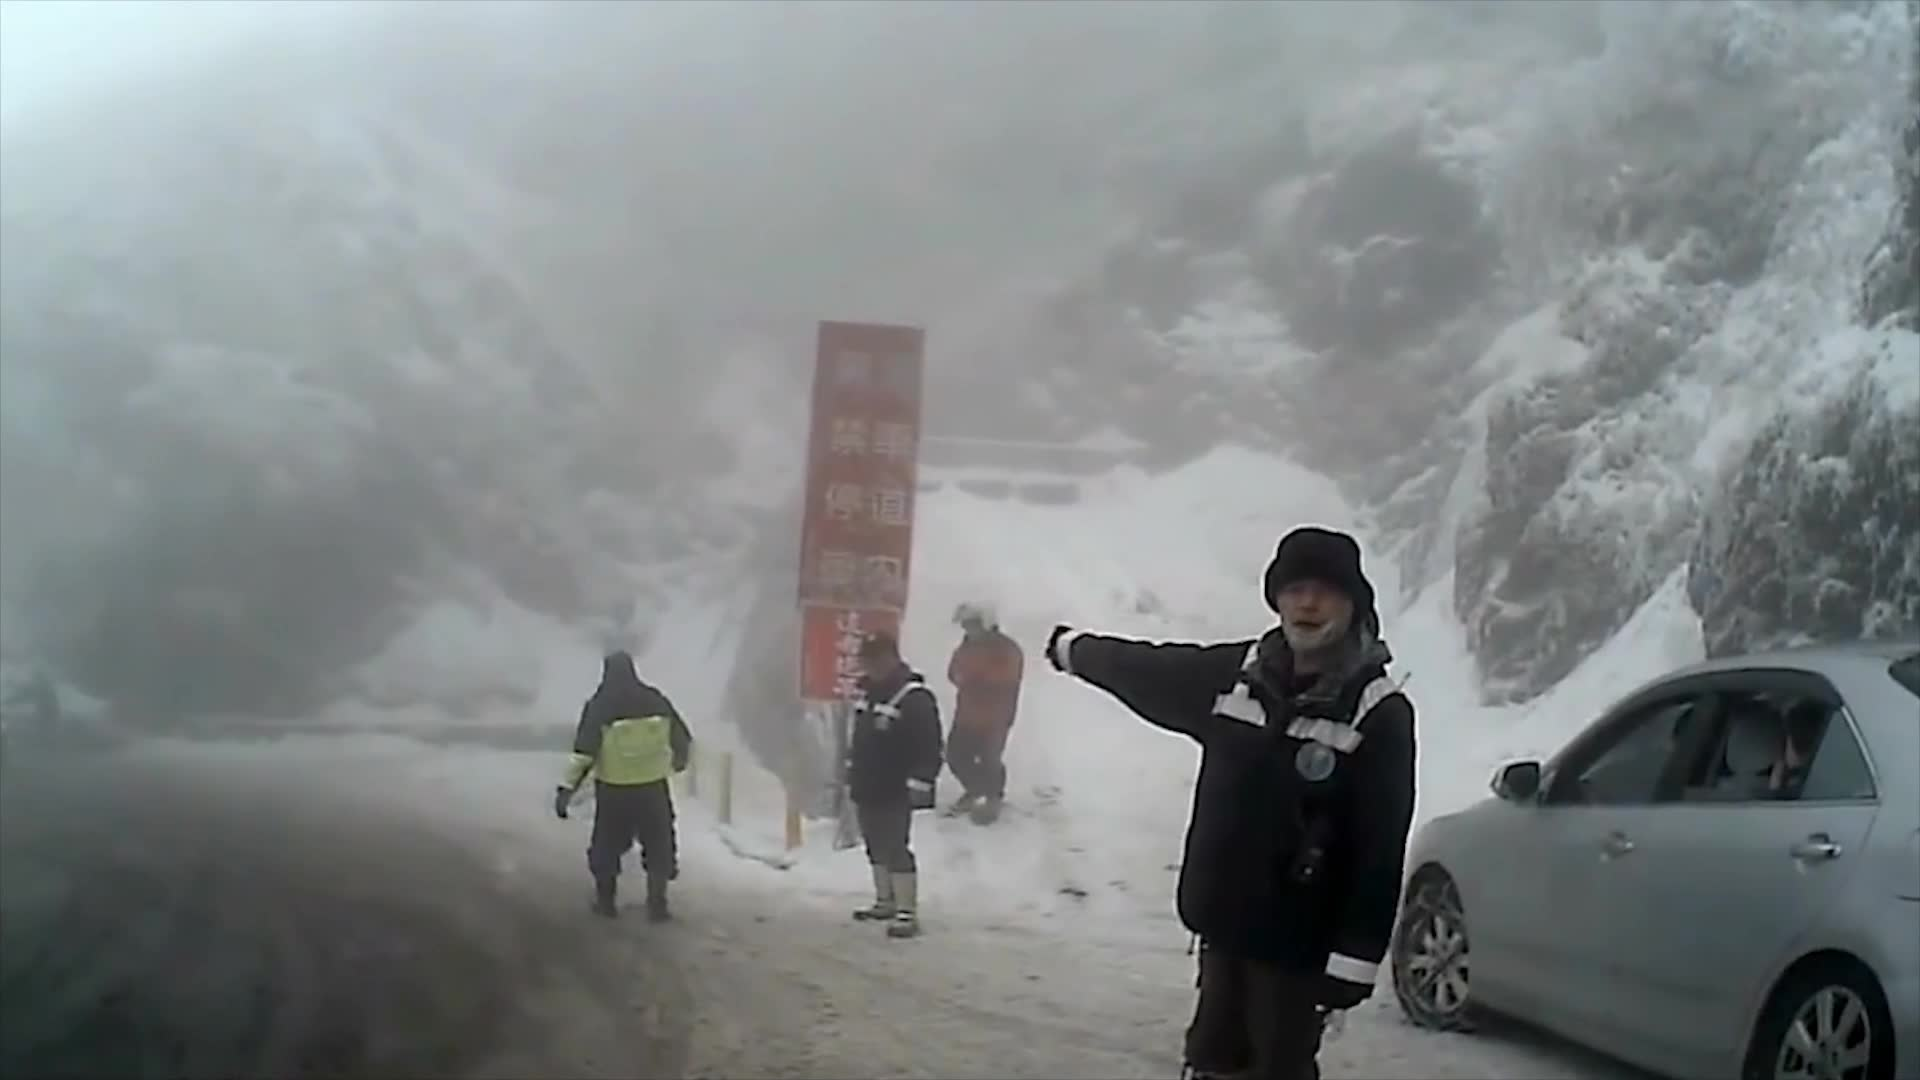pedestrian: (1045, 511, 1419, 1079), (559, 644, 702, 916), (841, 626, 946, 941), (945, 596, 1031, 821)
vehicle: (1385, 640, 1919, 1080)
